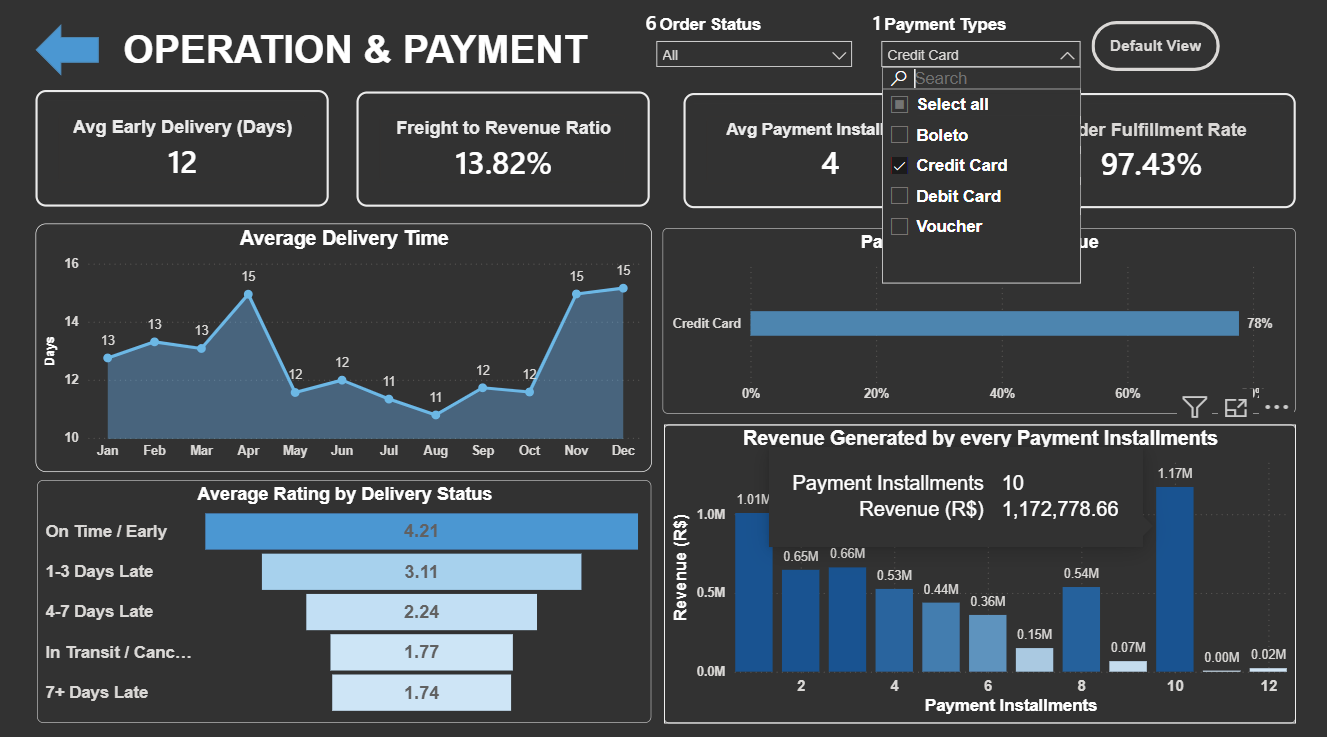

What the dashboard file says about the page in this screenshot:
{"tool":"powerbi","page":{"name":"Operation & Payment","canvas":[1280,720],"ordinal":3},"visuals":[{"type":"cardVisual","fields":{"Data":["all_measures.Average Payment Installments"]},"box":[660.1,97,278.4,109.8],"z":0},{"type":"cardVisual","fields":{"Data":["all_measures.Freight to Revenue Ratio"]},"box":[348.3,95.4,279.9,109.8],"z":1000},{"type":"actionButton","box":[1049.8,28.6,122.5,47.7],"z":2000},{"type":"cardVisual","fields":{"Data":["all_measures.Early Delivery (Days)"]},"box":[41.4,93.8,279.9,111.3],"z":8000},{"type":"cardVisual","fields":{"Data":["all_measures.Order Fullfilment Rate"]},"box":[968.7,97,276.8,109.8],"z":9000},{"type":"clusteredBarChart","title":"Payment Share by Revenue","fields":{"Category":["public fact_payments.payment_type"],"Y":["all_measures.Payment Revenue Share (%)"]},"box":[640.3,226.3,604.5,177.6],"z":10000},{"type":"areaChart","title":"Average Delivery Time","fields":{"Category":["public dim_date.month_short"],"Y":["all_measures.Average Actual Delivery (Days)"]},"box":[41.4,222.7,588.5,237],"z":11000},{"type":"clusteredColumnChart","title":"Revenue Generated by every Payment Installments","fields":{"Category":["public fact_payments.payment_installments"],"Y":["Sum(public fact_payments.payment_value)"]},"box":[641.7,414,603,285],"z":12000},{"type":"funnel","fields":{"Category":["public fact_sales.Delivery Status Group"],"Y":["Avg(public fact_sales.review_score)"]},"box":[42.9,467.6,586.9,232.2],"z":13000},{"type":"slicer","fields":{"Values":["public fact_sales.order_status"]},"box":[625.1,17.5,206.8,70],"z":14000},{"type":"cardVisual","fields":{"Data":["all_measures.Total Order Status"]},"box":[574.2,1.6,89.1,55.7],"z":15000},{"type":"slicer","fields":{"Values":["public fact_payments.payment_type"]},"box":[839.8,17.5,210,70],"z":16000},{"type":"cardVisual","fields":{"Data":["all_measures.Total Payment Type"]},"box":[790.5,1.6,87.5,55.7],"z":17000},{"type":"shape","box":[41.4,31.8,60.4,49.3],"z":19000},{"type":"textbox","box":[120.9,28.6,575.8,63.6],"z":20000}]}

Visuals, with their boxes in screenshot pixels (x1, y1, x2, y2), scaled from the page's 1280x720 canvas onto the 1327x737 screenshot:
cardVisual - all_measures.Average Payment Installments: {"x1": 684, "y1": 99, "x2": 973, "y2": 212}
cardVisual - all_measures.Freight to Revenue Ratio: {"x1": 361, "y1": 98, "x2": 651, "y2": 210}
actionButton: {"x1": 1088, "y1": 29, "x2": 1215, "y2": 78}
cardVisual - all_measures.Early Delivery (Days): {"x1": 43, "y1": 96, "x2": 333, "y2": 210}
cardVisual - all_measures.Order Fullfilment Rate: {"x1": 1004, "y1": 99, "x2": 1291, "y2": 212}
"Payment Share by Revenue" clusteredBarChart: {"x1": 664, "y1": 232, "x2": 1291, "y2": 413}
"Average Delivery Time" areaChart: {"x1": 43, "y1": 228, "x2": 653, "y2": 471}
"Revenue Generated by every Payment Installments" clusteredColumnChart: {"x1": 665, "y1": 424, "x2": 1290, "y2": 716}
funnel - public fact_sales.Delivery Status Group x Avg(public fact_sales.review_score): {"x1": 44, "y1": 479, "x2": 653, "y2": 716}
slicer - public fact_sales.order_status: {"x1": 648, "y1": 18, "x2": 862, "y2": 90}
cardVisual - all_measures.Total Order Status: {"x1": 595, "y1": 2, "x2": 688, "y2": 59}
slicer - public fact_payments.payment_type: {"x1": 871, "y1": 18, "x2": 1088, "y2": 90}
cardVisual - all_measures.Total Payment Type: {"x1": 820, "y1": 2, "x2": 910, "y2": 59}
shape: {"x1": 43, "y1": 33, "x2": 106, "y2": 83}
textbox: {"x1": 125, "y1": 29, "x2": 722, "y2": 94}
